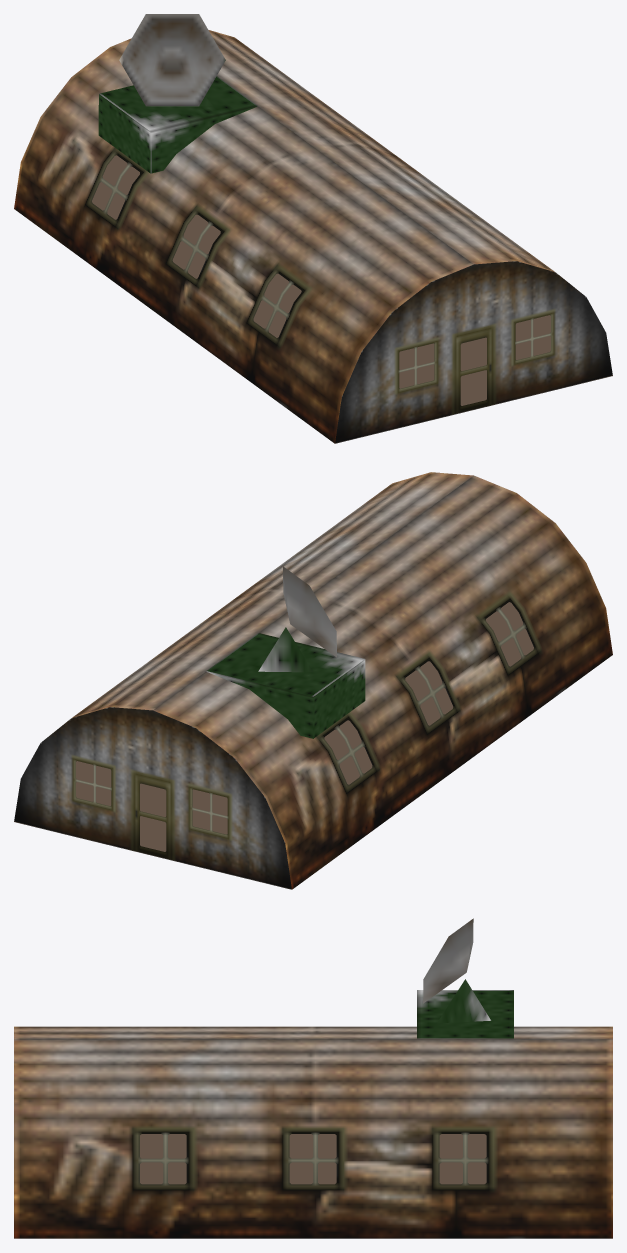
Rendered from quonset2.glb.
3 renders of one model, top to bottom at view 1: azimuth 30°, elevation 25°; view 2: azimuth 150°, elevation 25°; view 3: azimuth 270°, elevation 25°, orthographic. The views are drawn at different scales.
Visible parts, largest first — view 1: quonset2, LitWin_Quonset2; view 2: quonset2, LitWin_Quonset2; view 3: quonset2, LitWin_Quonset2.
Part boxes in pixels (x1=…): quonset2: x1=14, y1=14, x2=612, y2=443; LitWin_Quonset2: x1=92, y1=155, x2=550, y2=405; quonset2: x1=14, y1=472, x2=612, y2=889; LitWin_Quonset2: x1=76, y1=602, x2=533, y2=851; quonset2: x1=14, y1=918, x2=612, y2=1238; LitWin_Quonset2: x1=140, y1=1134, x2=486, y2=1184.
Bounding box in the file's own units: 8.45 × 6.84 × 16.9.
Materials: 1 (1 with a texture image).
